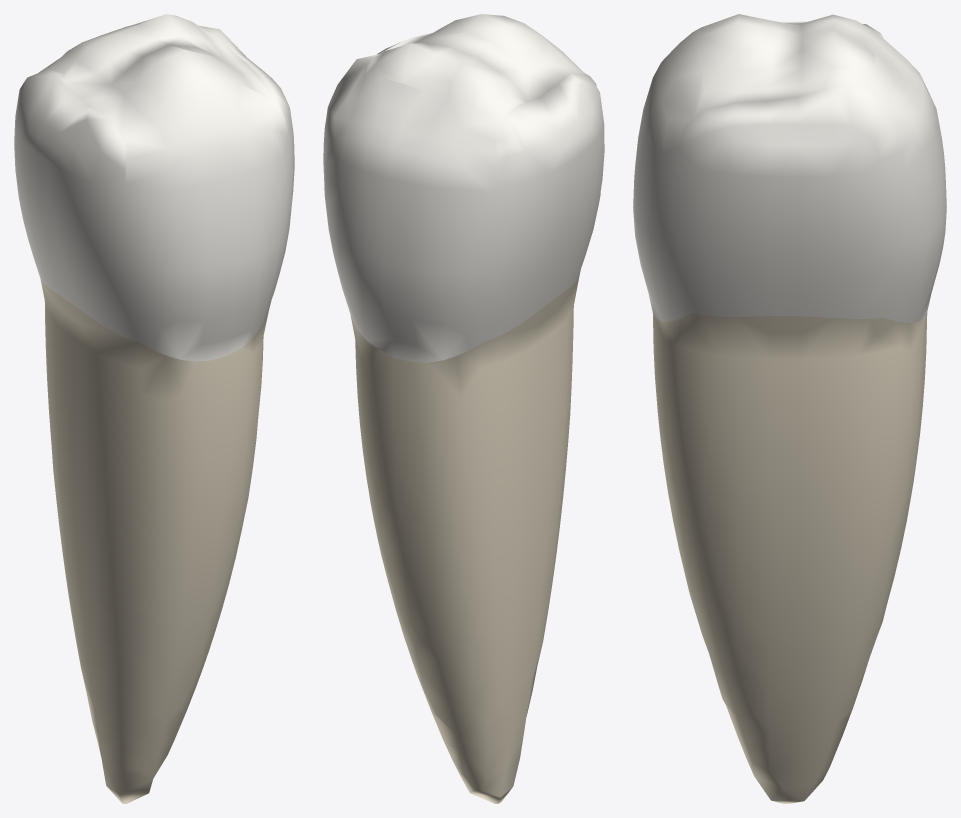
3 views of the same model, side by side, from view 1: azimuth 30°, elevation 25°; view 2: azimuth 150°, elevation 25°; view 3: azimuth 270°, elevation 25° (orthographic). The views are drawn at different scales.
Visible parts, largest first — view 1: root, V, D, O, M; view 2: root, L, D, O, M; view 3: root, M, O, L, V.
Boxes of the visible parts, x1,y1,x2,y2 form: root: (40, 279, 268, 803); V: (122, 80, 292, 361); D: (14, 69, 140, 343); O: (49, 14, 270, 128); M: (199, 25, 294, 218); root: (350, 277, 579, 803); L: (325, 76, 499, 362); D: (481, 70, 604, 343); O: (365, 14, 576, 119); M: (323, 38, 409, 222); root: (653, 312, 927, 803); M: (674, 82, 904, 318); O: (697, 14, 875, 109); L: (869, 29, 946, 323); V: (633, 29, 705, 321).
Bounding box in the file's own units: 6.99 × 22.52 × 8.
